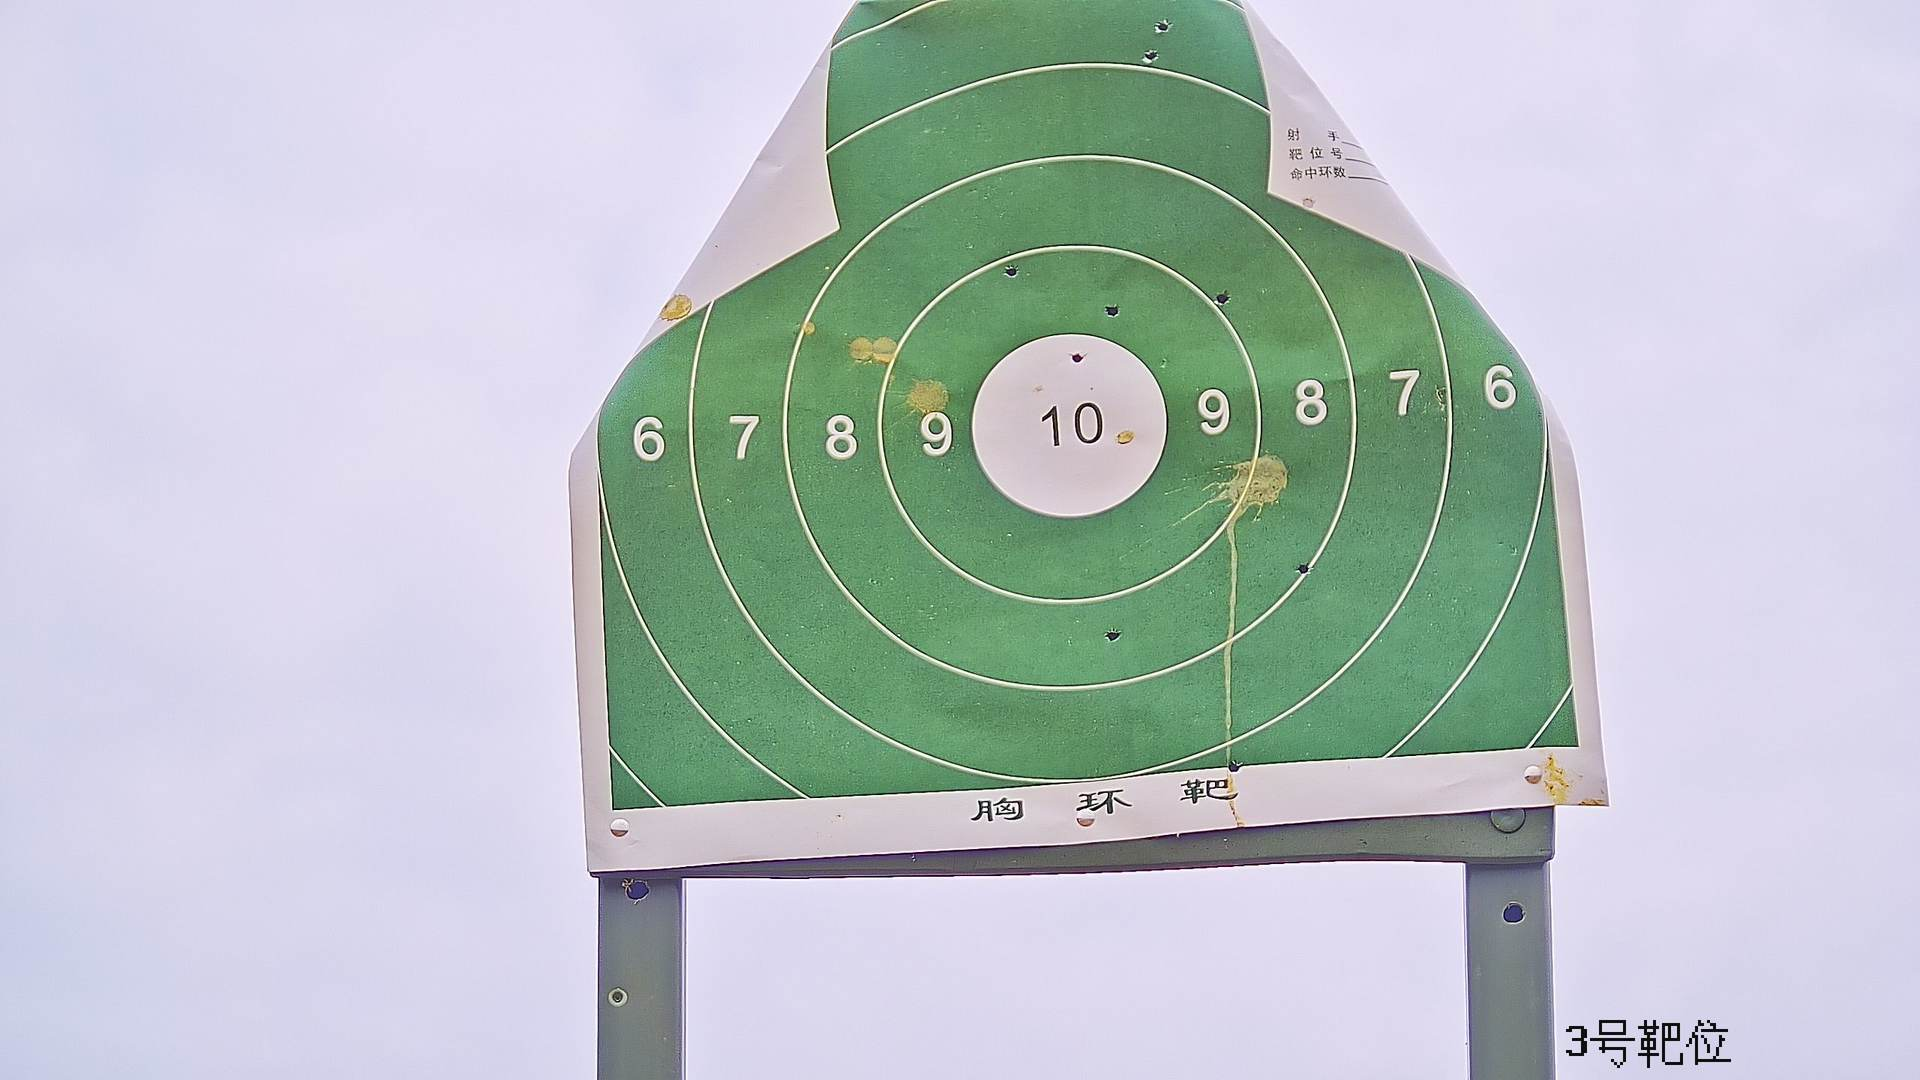hole: (1106, 629, 1124, 641), (1155, 18, 1170, 32), (1296, 563, 1311, 576), (1215, 291, 1230, 303), (1105, 305, 1120, 316), (1303, 198, 1317, 210), (1226, 760, 1240, 771), (1069, 352, 1084, 363), (1145, 50, 1158, 61), (1006, 265, 1017, 276)
kernel: (1063, 426, 1075, 433)
target: (596, 5, 1582, 808)
ten: (968, 327, 1174, 520)
